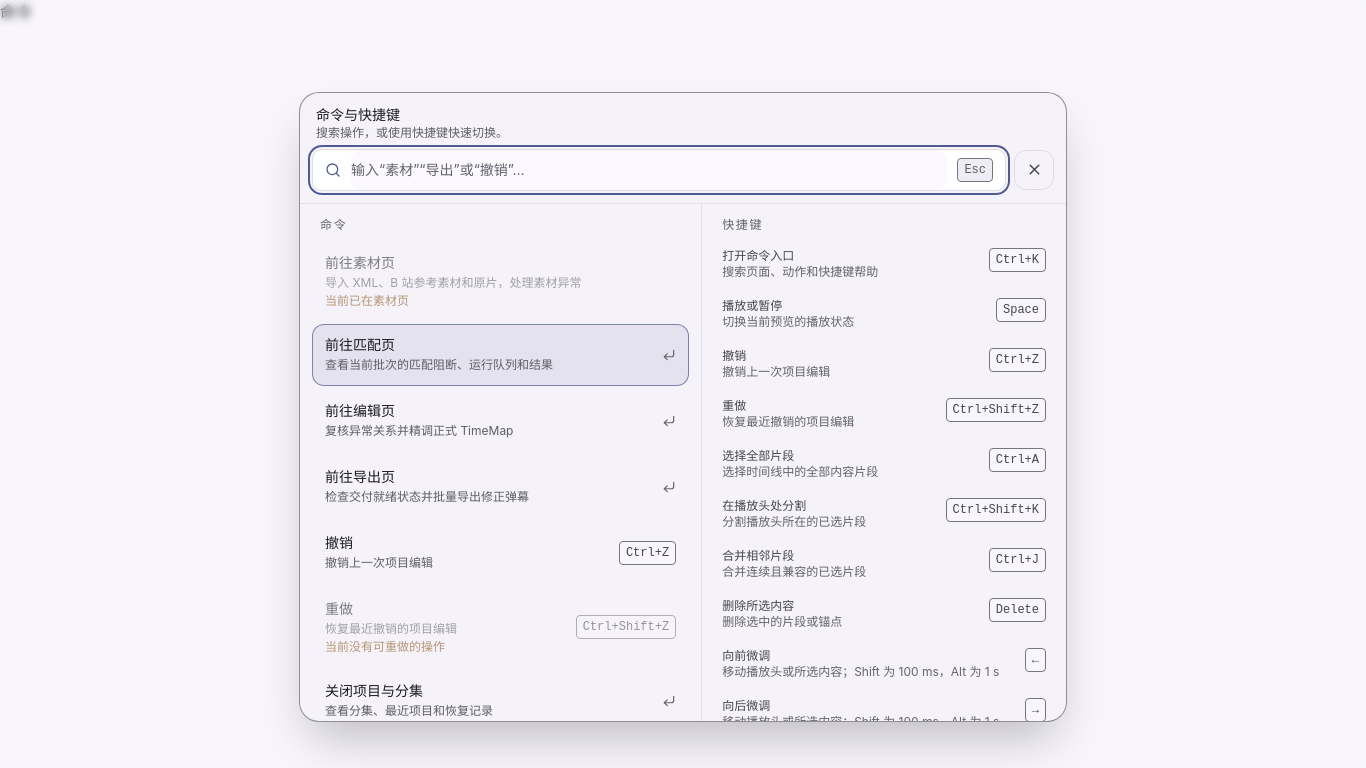
Test case: CommandPalette › 搜索不丢焦点，方向键与 Enter 执行当前可用命令
The width and height of the screenshot is (1366, 768).
Type "前往" into the dropdown named "搜索命令" at (649, 170), box left=351, top=150, right=947, bottom=190
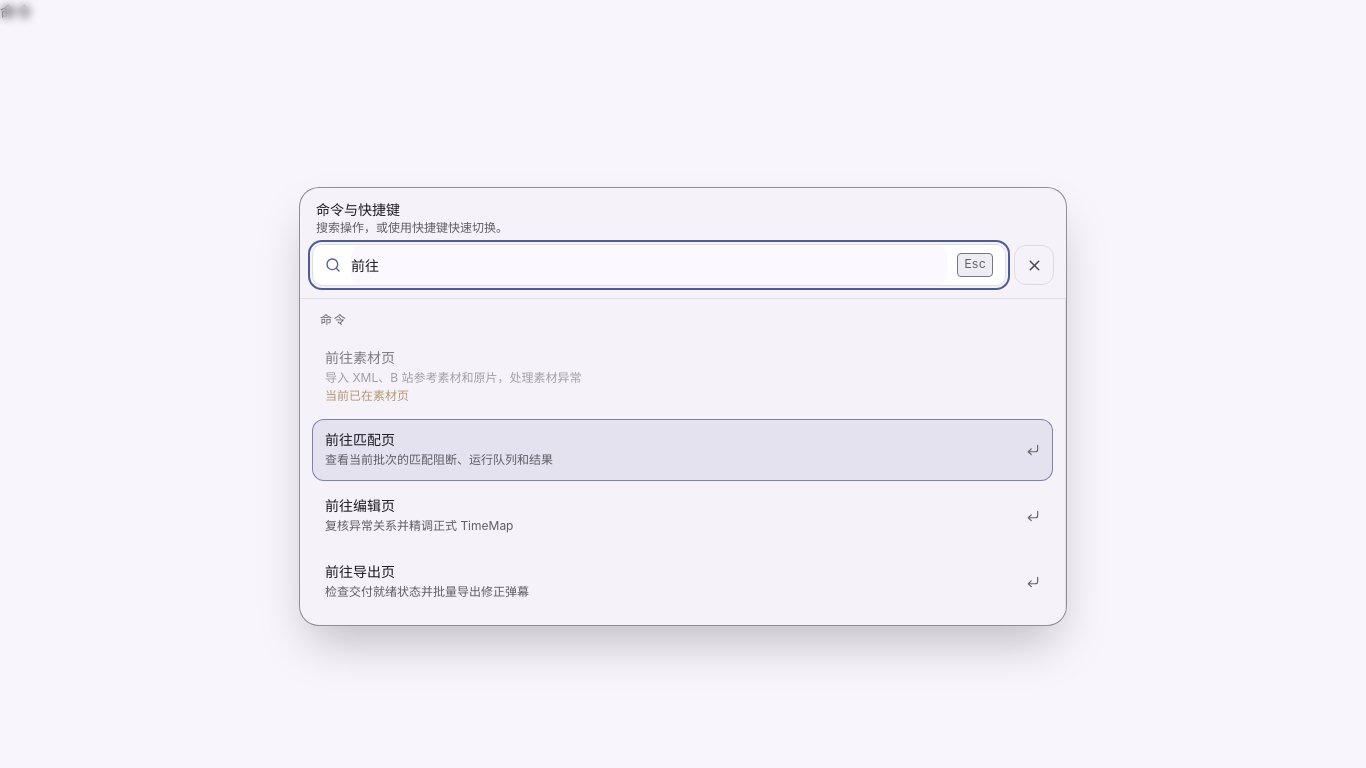
Press ArrowDown in the dropdown named "搜索命令", box left=351, top=245, right=947, bottom=285
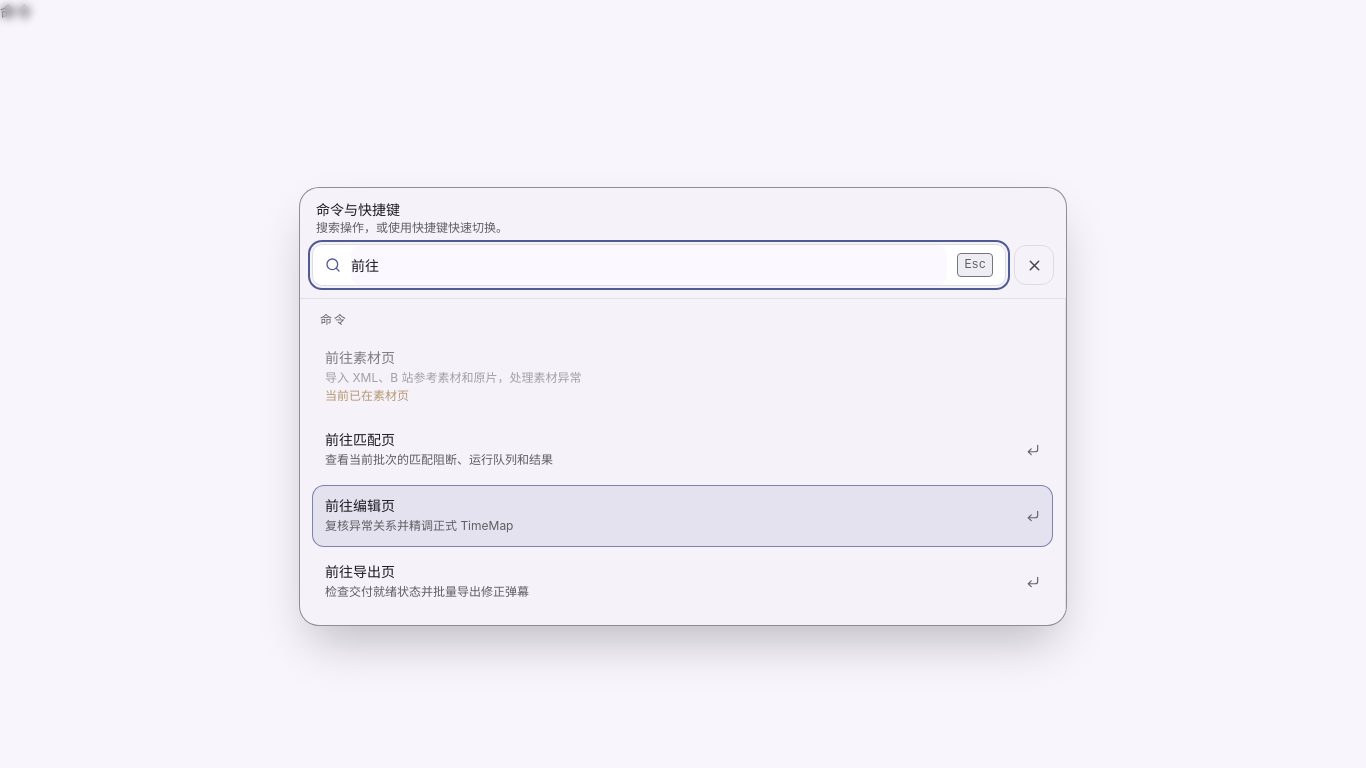
Now the option "前往编辑页 复核异常关系并精调正式 TimeMap" is selected, box left=312, top=485, right=1053, bottom=547
Press Enter in the dropdown named "搜索命令", box left=351, top=245, right=947, bottom=285
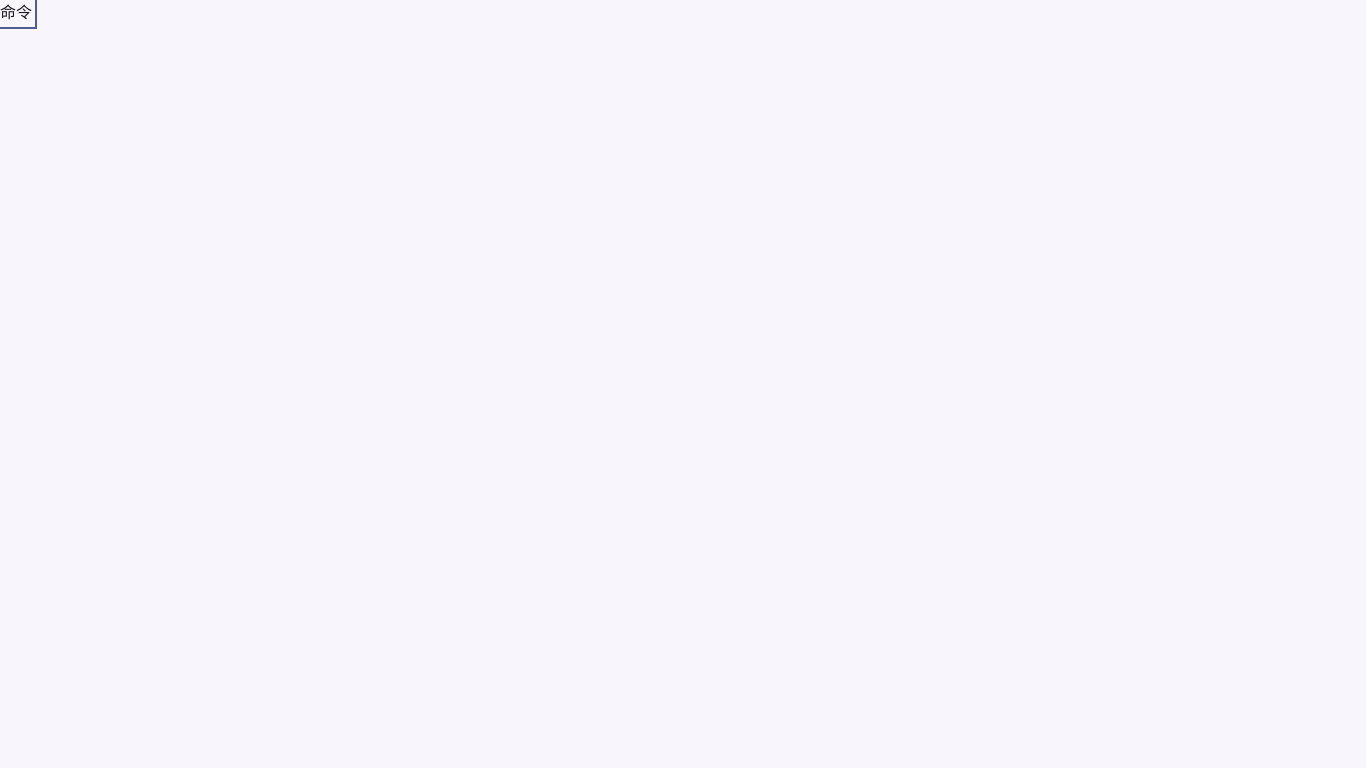
Now the heading "命令与快捷键" is gone
